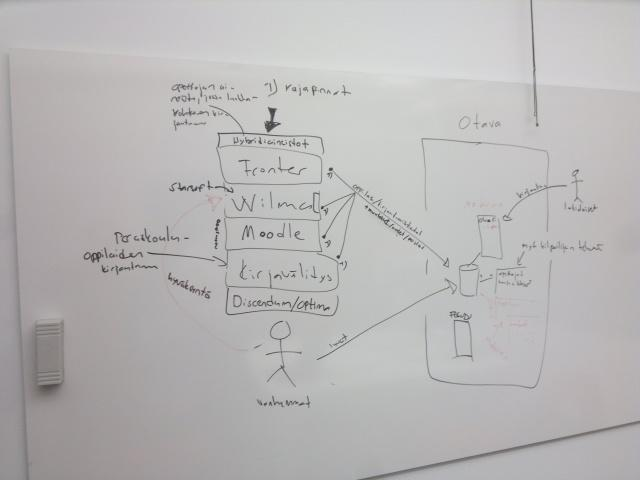Whiteboard: (7, 46, 639, 479)
